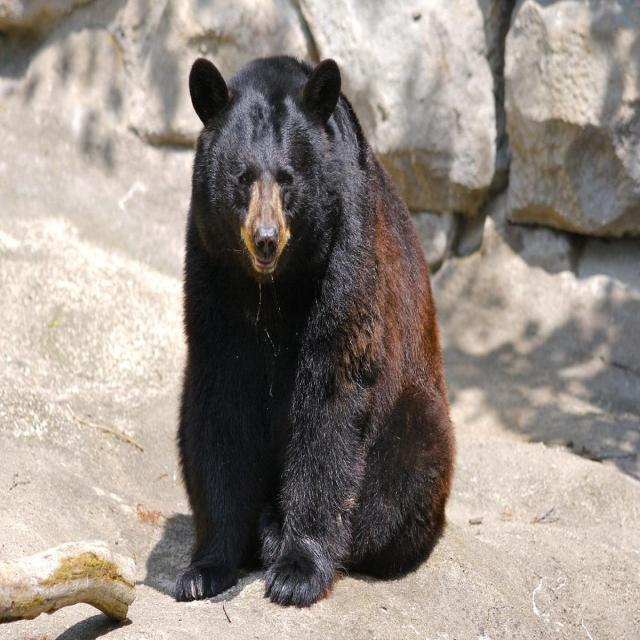Bear: (174, 56, 458, 610)
